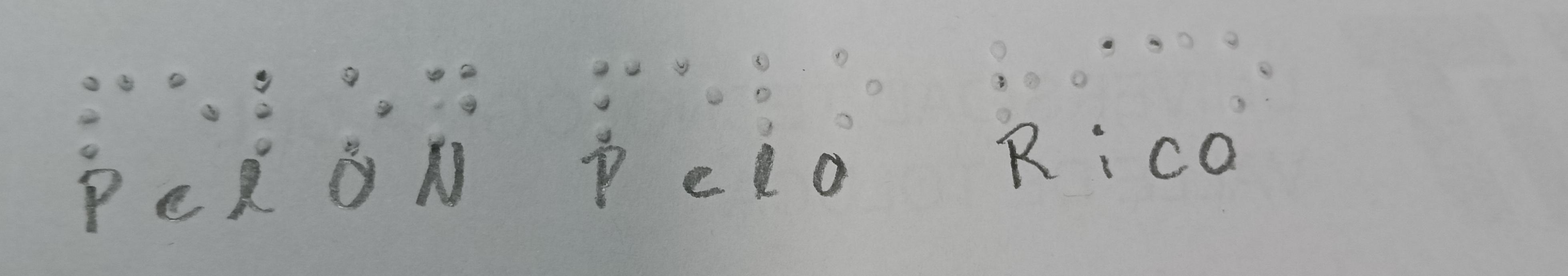c: (1135, 11, 1209, 112)
e: (154, 55, 234, 167), (665, 51, 733, 148)
i: (1049, 7, 1126, 112)
l: (242, 47, 310, 159), (741, 51, 802, 143)
n: (414, 57, 506, 152)
o: (799, 39, 905, 151), (322, 49, 406, 160), (1215, 15, 1290, 130)
p: (60, 59, 146, 170), (578, 55, 661, 146)
r: (975, 21, 1068, 126)
